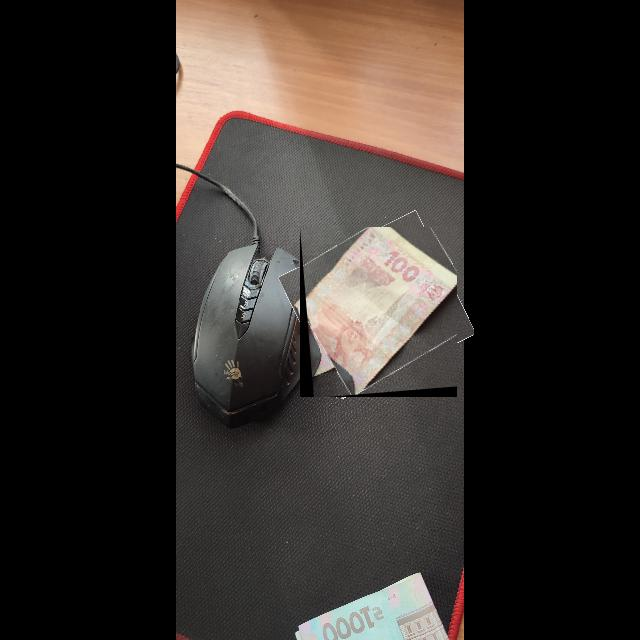100uah: (305, 227, 458, 396)
